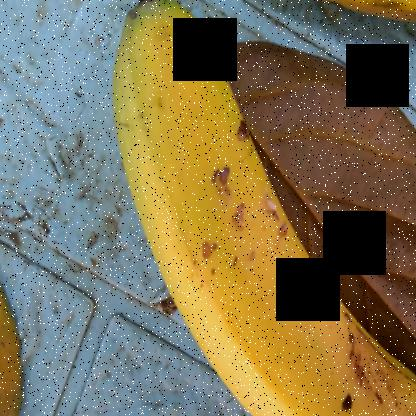ripe: (106, 13, 415, 415)
